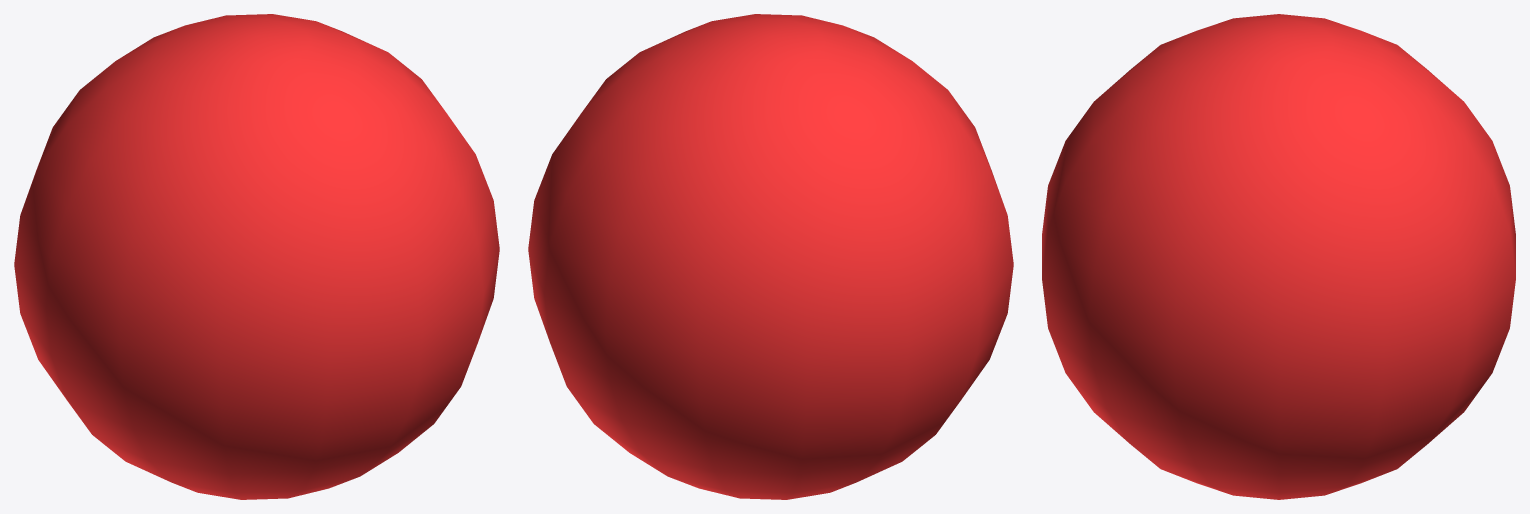
The model's file is BallRed.fbx.
3 views of the same model, side by side, from view 1: azimuth 30°, elevation 25°; view 2: azimuth 150°, elevation 25°; view 3: azimuth 270°, elevation 25° (orthographic).
Visible parts, largest first — view 1: BallRed1; view 2: BallRed1; view 3: BallRed1.
Part boxes in pixels (bbox=[...]): BallRed1: bbox=[14, 14, 499, 499]; BallRed1: bbox=[528, 14, 1013, 499]; BallRed1: bbox=[1042, 14, 1515, 499].
Size of the model in its own units: 1.05 by 1.05 by 1.03.
